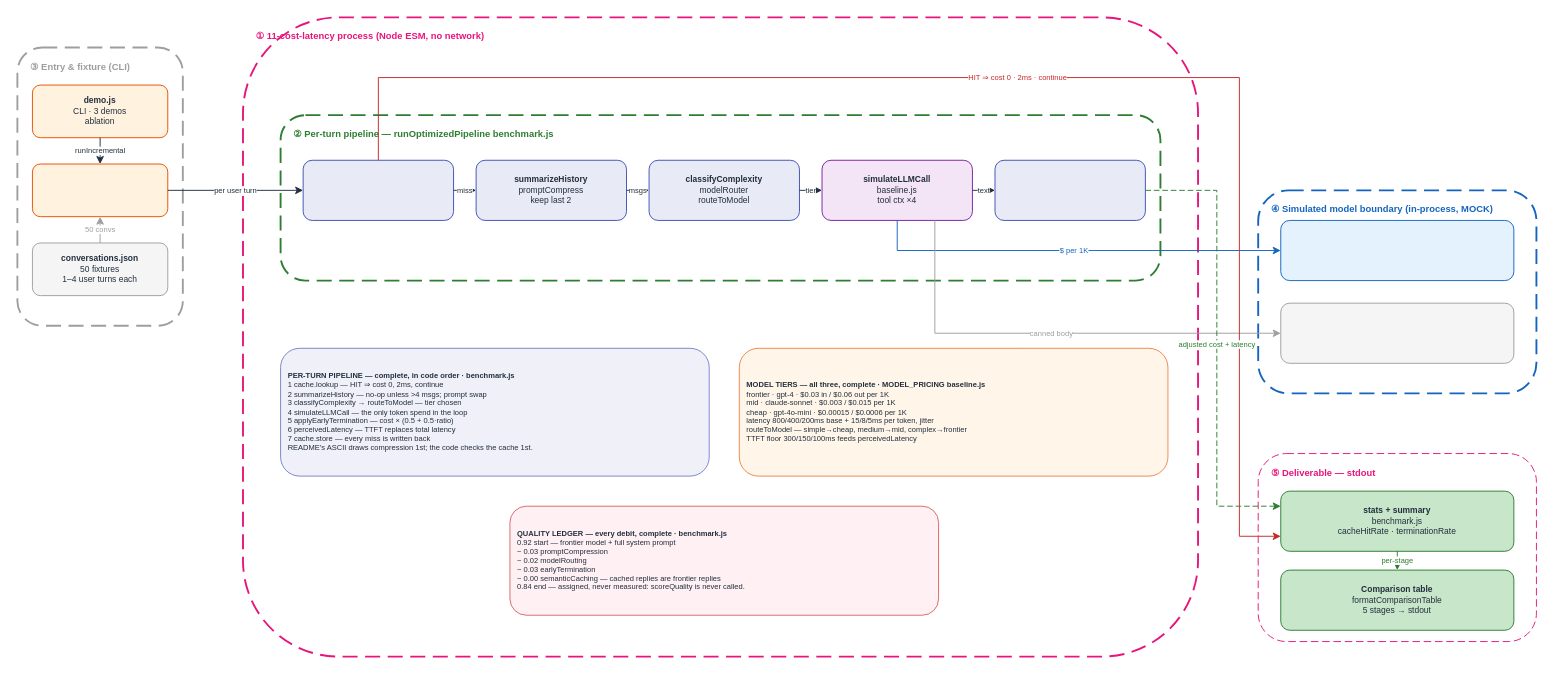
The diagram is 1553 pixels wide and 673 high, and some of its shapes have lost their labels. The centre of each missing label's shape, as x and y in pixels:
"applyEarlyTermination earlyTermination perceivedLatency" belongs at (x=1069, y=189).
"benchmark.js runOptimized CLI main" belongs at (x=99, y=190).
"generateResponse() baseline.js — 5 canned corpora category matched, no network" belongs at (x=1397, y=332).
"MODEL_PRICING baseline.js — 3 tiers frontier · mid · cheap" belongs at (x=1397, y=250).
"SemanticCache lookup() cos ≥ 0.60 · TTL 1h" belongs at (x=378, y=189).
